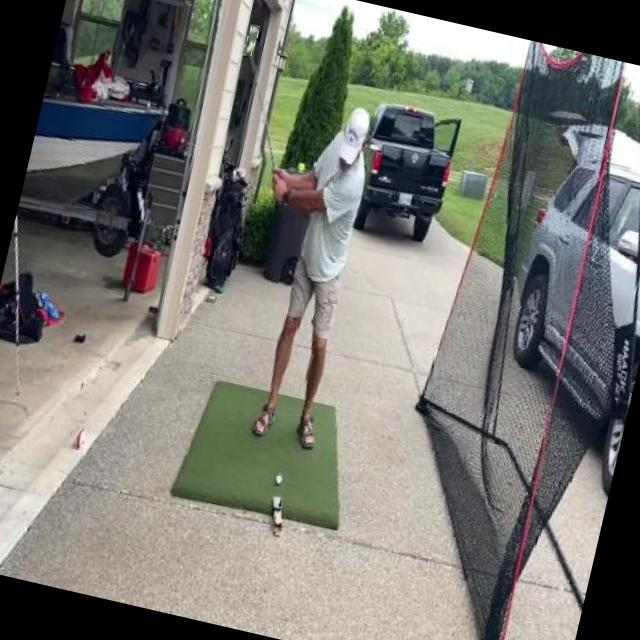club head: (242, 24, 260, 57)
